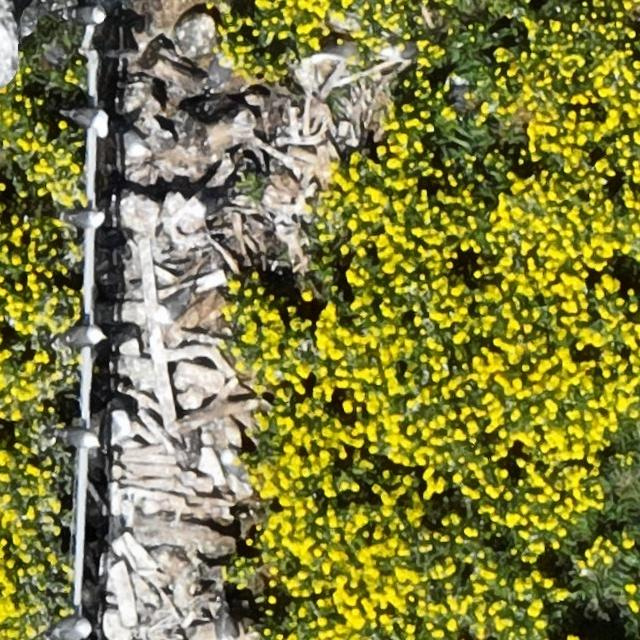umineko: (120, 124, 148, 158), (453, 70, 473, 110), (51, 618, 89, 638), (63, 328, 104, 346), (62, 431, 100, 449), (208, 53, 228, 85), (73, 111, 103, 132), (112, 409, 129, 444), (70, 8, 106, 24), (68, 212, 103, 228), (217, 616, 236, 639)
